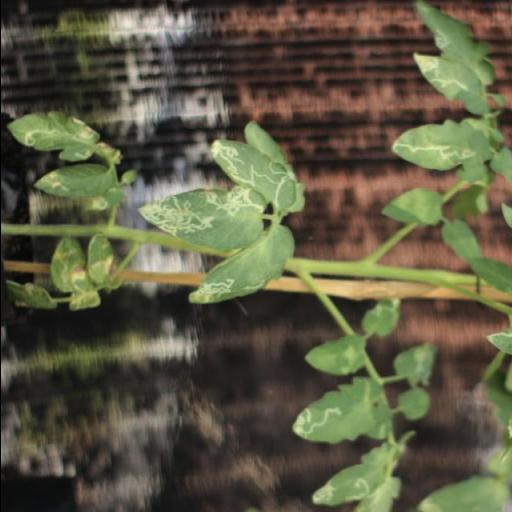disease_tomato: (186, 224, 296, 304), (134, 189, 270, 252), (209, 136, 299, 208), (292, 376, 382, 444), (6, 106, 100, 164), (391, 120, 489, 172), (30, 164, 118, 200)
